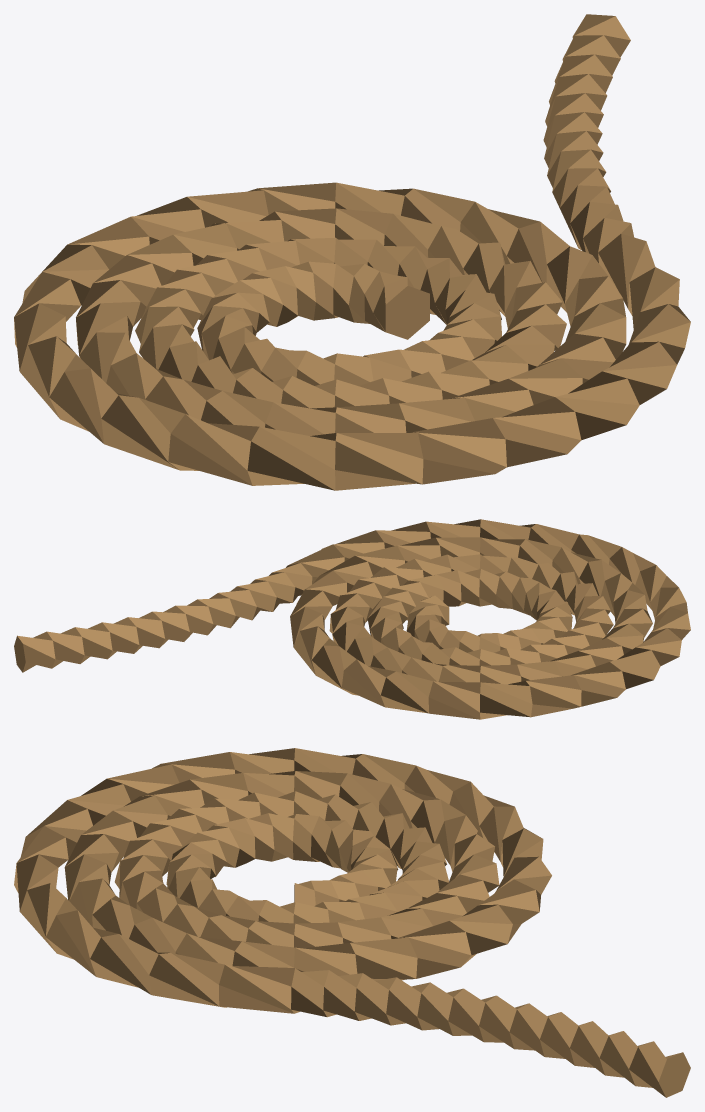
The model's file is coiled-rope_final.glb.
3 renders of one model, top to bottom at view 1: azimuth 30°, elevation 25°; view 2: azimuth 150°, elevation 25°; view 3: azimuth 270°, elevation 25°, orthographic. The views are drawn at different scales.
Visible parts, largest first — view 1: SM_CoiledRope_Coil; view 2: SM_CoiledRope_Coil; view 3: SM_CoiledRope_Coil.
Part boxes in pixels (bbox=[...]): SM_CoiledRope_Coil: bbox=[14, 14, 690, 490]; SM_CoiledRope_Coil: bbox=[14, 519, 690, 719]; SM_CoiledRope_Coil: bbox=[14, 748, 690, 1097].
Bounding box in the file's own units: 0.5593 × 0.036 × 0.4992.
